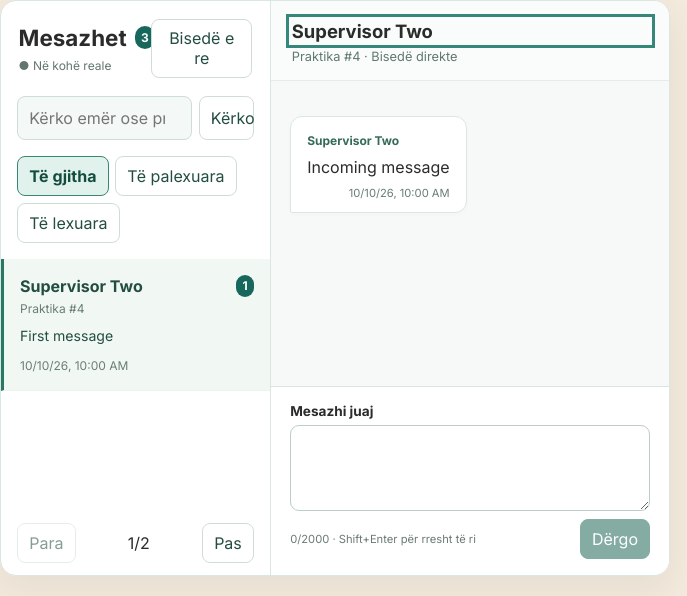
Test: sends on Enter, leaves Shift+Enter for multiline and clears only after success
Expected: the text "Incoming message" is shown, [307, 155, 450, 180]
Type "Sent text" into the text box labelled "Mesazhi juaj". click: (470, 468)
box: [290, 425, 650, 511]
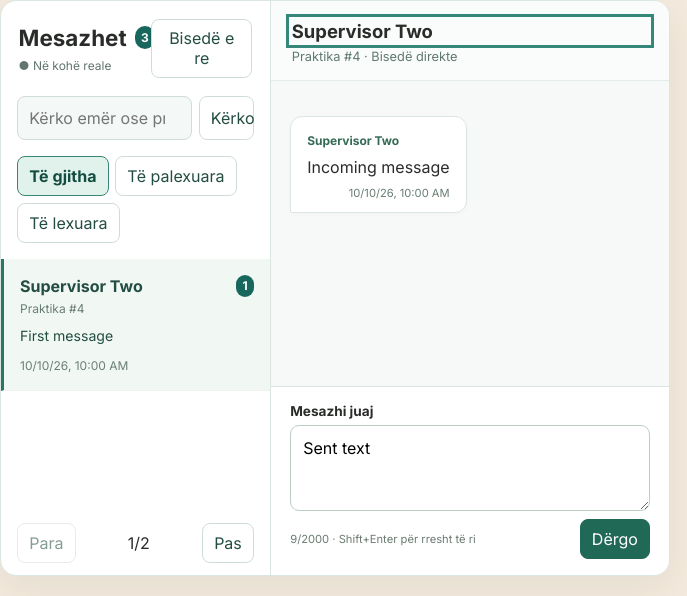
Press Enter in the text box labelled "Mesazhi juaj", box [290, 425, 650, 511]
Press Enter in the text box labelled "Mesazhi juaj", box [290, 425, 650, 511]
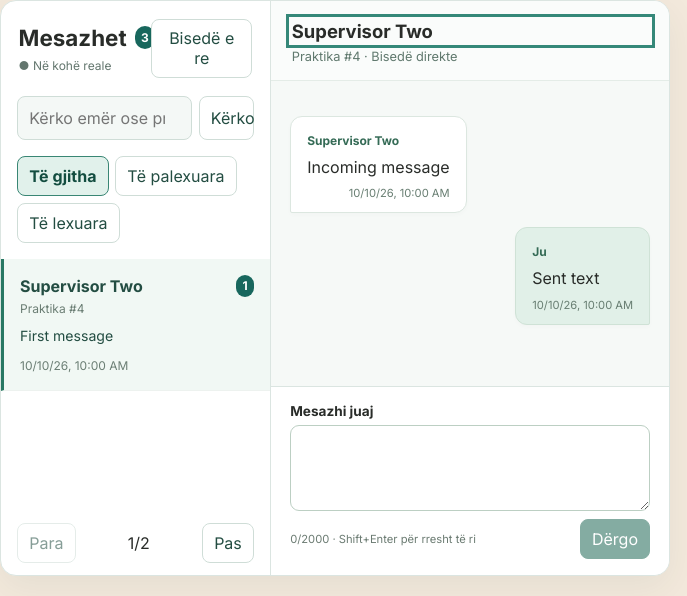
Expected: the text box labelled "Mesazhi juaj" is empty, [290, 425, 650, 511]
Expected: the text "Sent text" is shown once, [532, 268, 599, 288]
